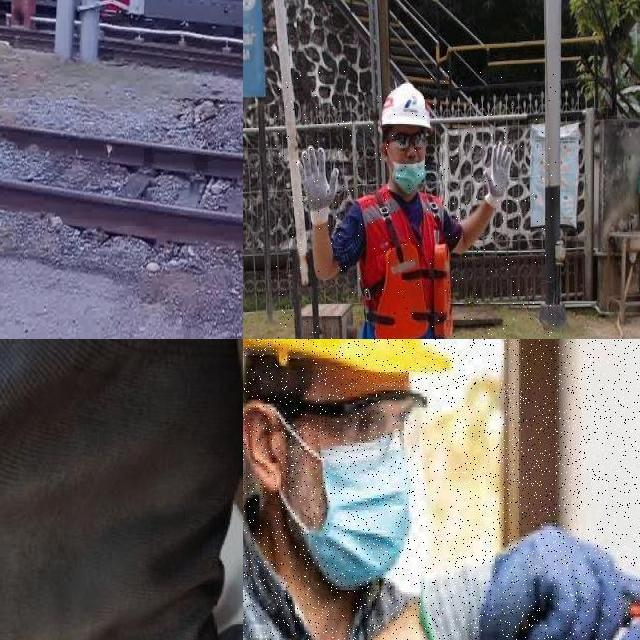GLASS: (277, 380, 428, 460), (386, 132, 430, 150)
GLOVE: (0, 339, 243, 640), (455, 512, 640, 640), (296, 145, 339, 225), (483, 142, 513, 210)
HELMET: (243, 339, 447, 384), (380, 81, 433, 131)
VEST: (354, 186, 455, 339)
